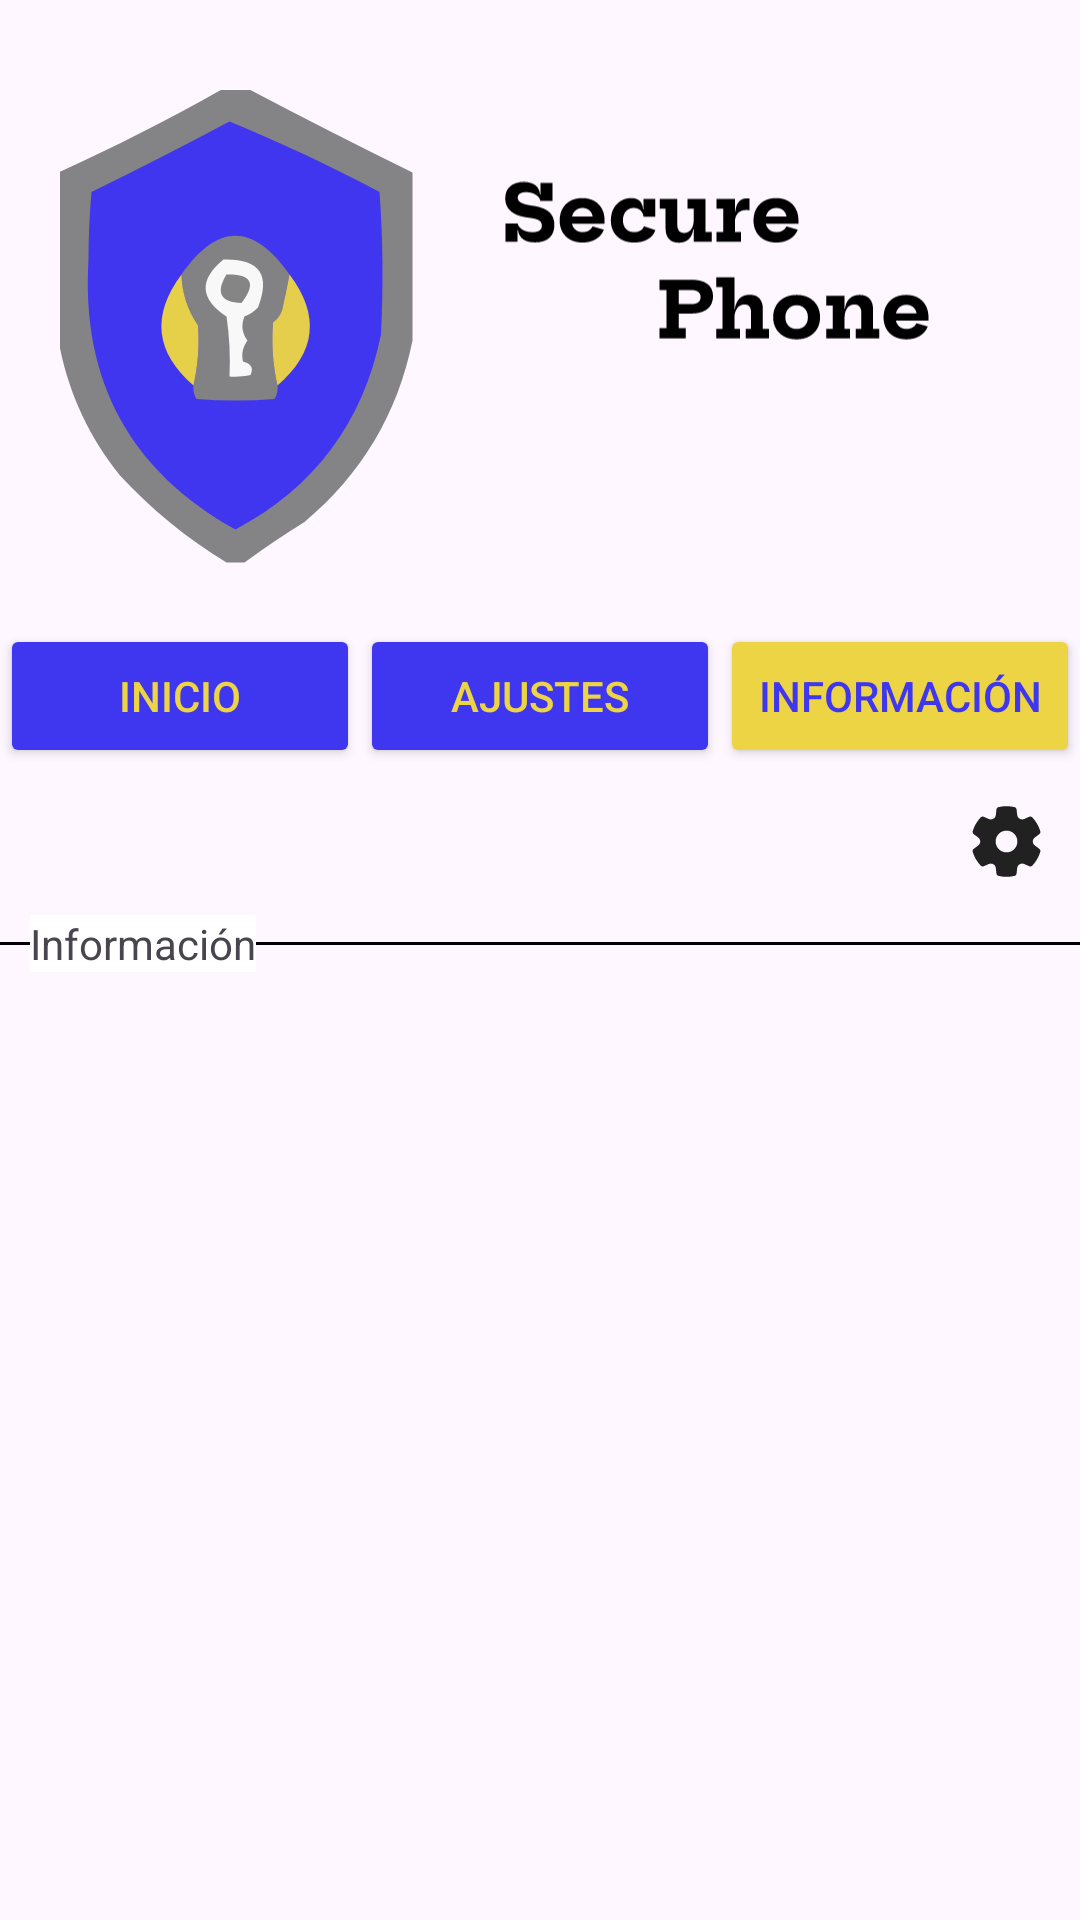

Screen size 1080px x 1920px. Icon name, then its center in pixels as (x=x, y=y):
gear: (x=1006, y=841)
